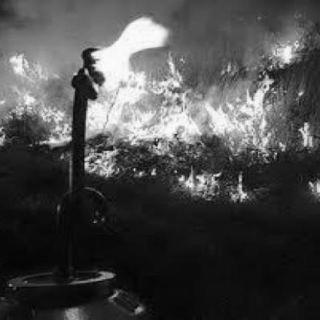Fire: (3, 14, 320, 202)
